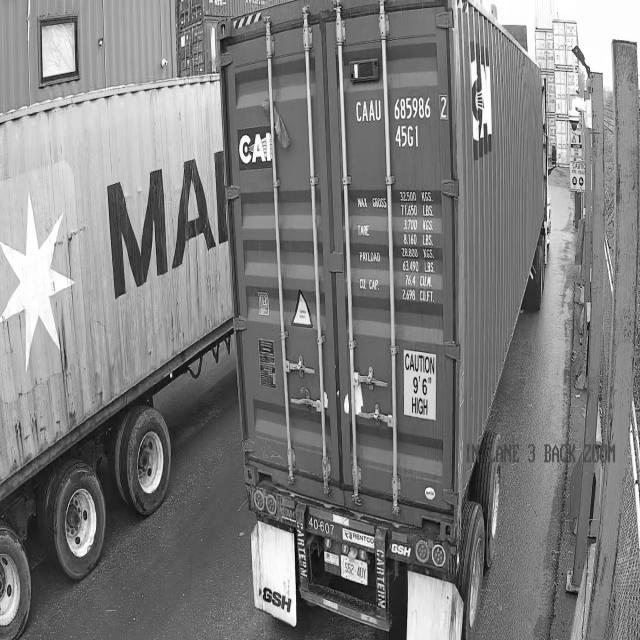container_company_logo: (236, 123, 277, 170)
container_number: (354, 97, 448, 144)
license_plate: (338, 560, 373, 582)
other_container_info: (349, 176, 446, 310)
truck_with_container: (220, 0, 550, 639), (0, 75, 233, 639)
